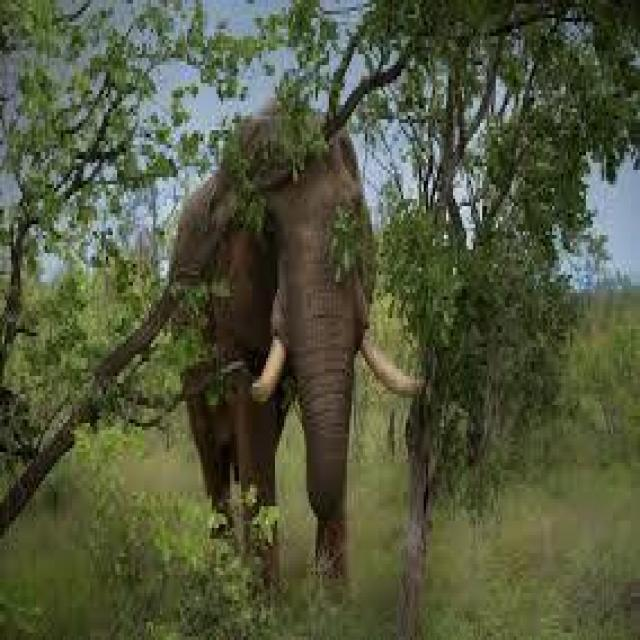Elephant: (171, 94, 430, 620)
